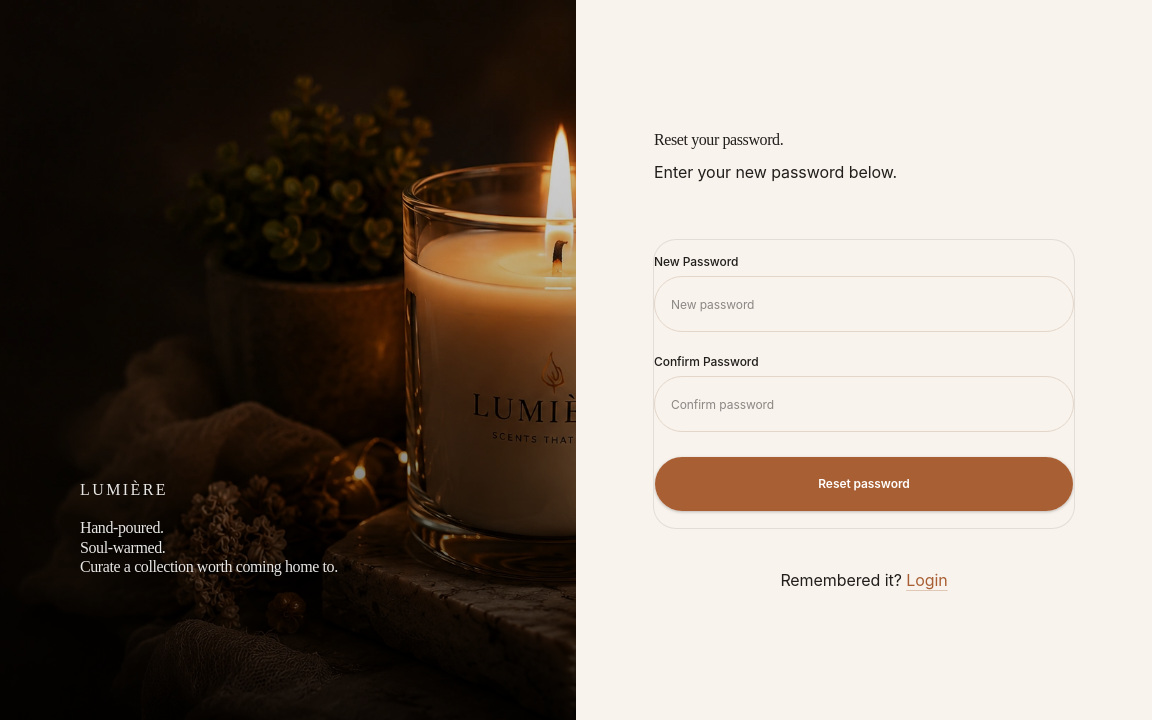
ResetPasswordPage › maps the backend message "Reset link has expired" to a root-level error reading "Reset link has expired"
Type "password123" into the password field with placeholder "New Password".
click(864, 304); type("password123")  # box [654,276,1074,332]
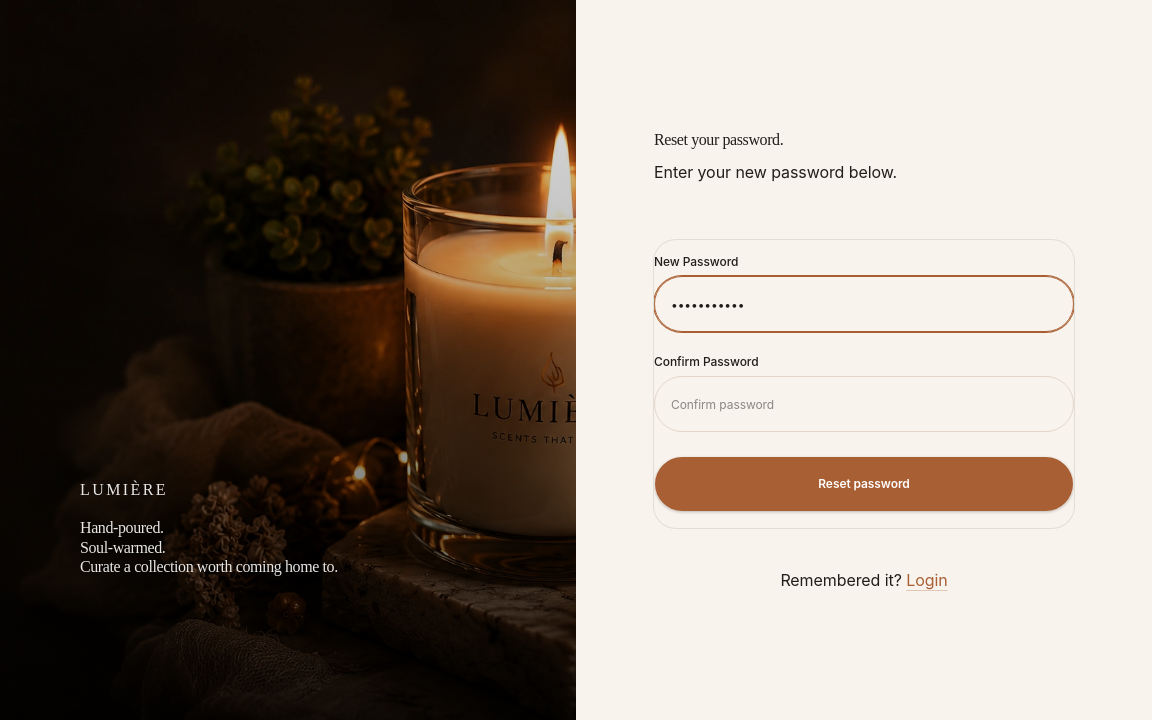
Type "password123" into the password field with placeholder "Confirm Password".
click(864, 404); type("password123")  # box [654,376,1074,432]
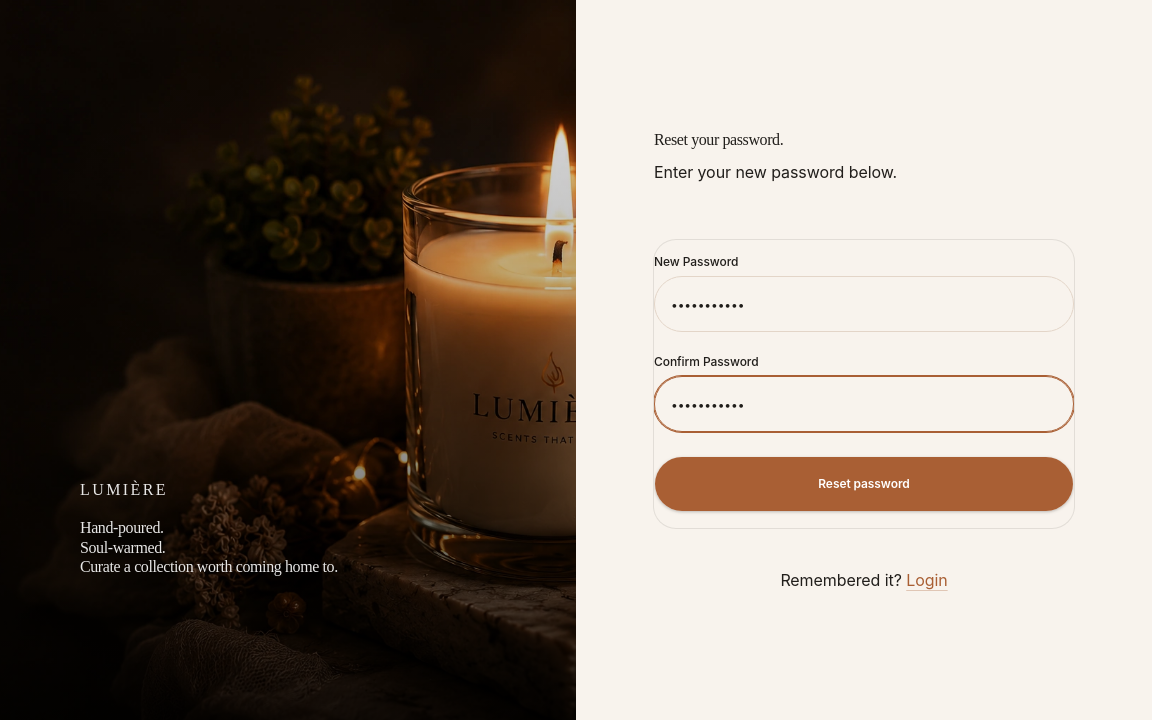
Click the button "Reset password".
click(864, 484)  # box [654,456,1074,512]
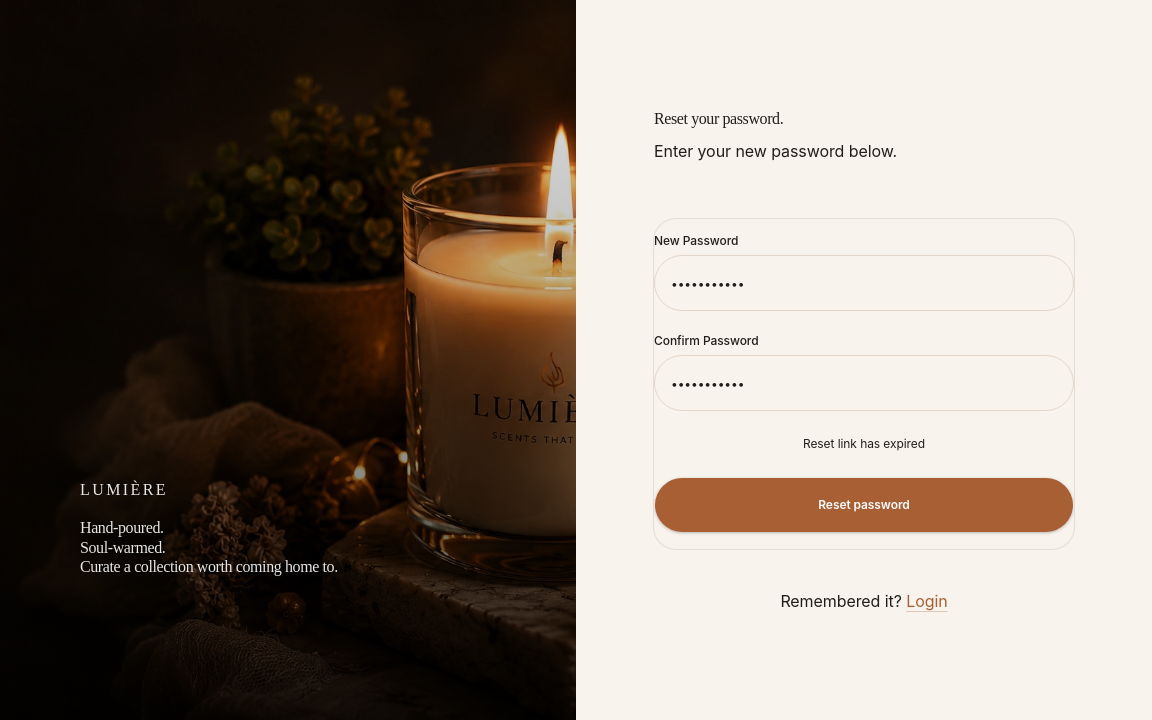
Result: the text "Reset link has expired" is shown at [803,436,925,451]
